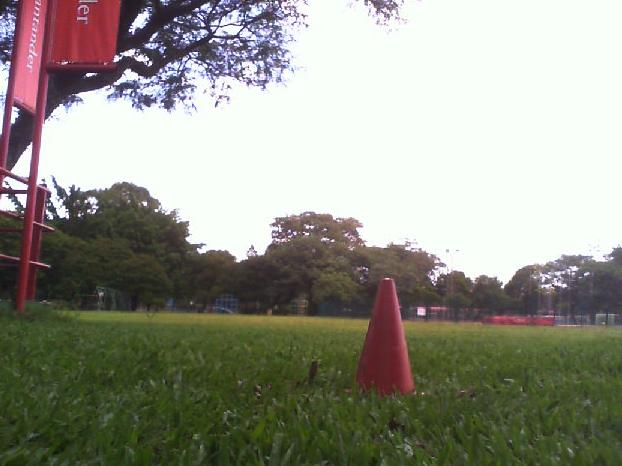0 cone: (343, 278, 415, 395)
